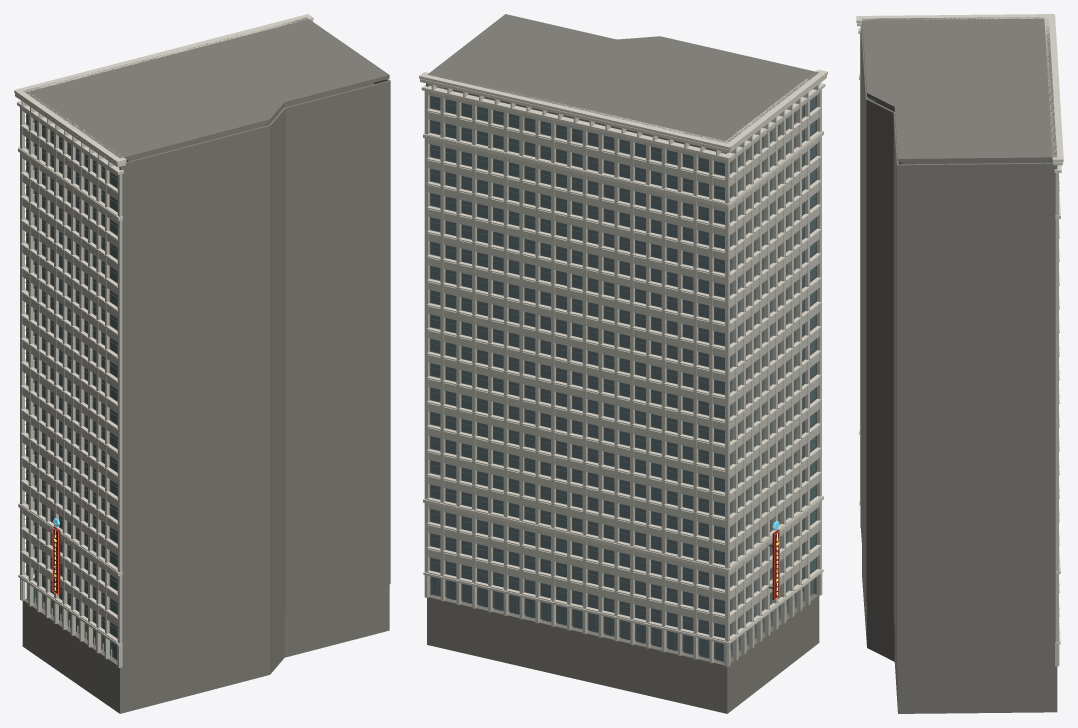
File: mallers.glb
The picture shows the model from 3 angles, left to right: view 1: azimuth 30°, elevation 25°; view 2: azimuth 150°, elevation 25°; view 3: azimuth 270°, elevation 25°; orthographic projection. The views are drawn at different scales.
Visible parts, largest first — view 1: Opaque interior and unsurveyed rear, White enamel terra cotta, Projecting pale mouldings, Separate recessed opaque windows, Dark window sash; view 2: White enamel terra cotta, Opaque interior and unsurveyed rear, Separate recessed opaque windows, Projecting pale mouldings, Dark window sash; view 3: Opaque interior and unsurveyed rear, Projecting pale mouldings, White enamel terra cotta.
Part boxes in pixels (x1=…): Opaque interior and unsurveyed rear: x1=22, y1=17, x2=390, y2=713; White enamel terra cotta: x1=20, y1=107, x2=122, y2=667; Projecting pale mouldings: x1=14, y1=14, x2=313, y2=646; Separate recessed opaque windows: x1=26, y1=113, x2=117, y2=659; Dark window sash: x1=25, y1=116, x2=117, y2=660; White enamel terra cotta: x1=424, y1=89, x2=822, y2=666; Opaque interior and unsurveyed rear: x1=426, y1=14, x2=819, y2=713; Separate recessed opaque windows: x1=430, y1=95, x2=815, y2=663; Projecting pale mouldings: x1=419, y1=69, x2=827, y2=644; Dark window sash: x1=430, y1=98, x2=816, y2=661; Opaque interior and unsurveyed rear: x1=860, y1=17, x2=1057, y2=713; Projecting pale mouldings: x1=856, y1=14, x2=1063, y2=644; White enamel terra cotta: x1=860, y1=34, x2=1059, y2=666.
Size of the model in its own units: 53.96 by 95 by 32.2.
